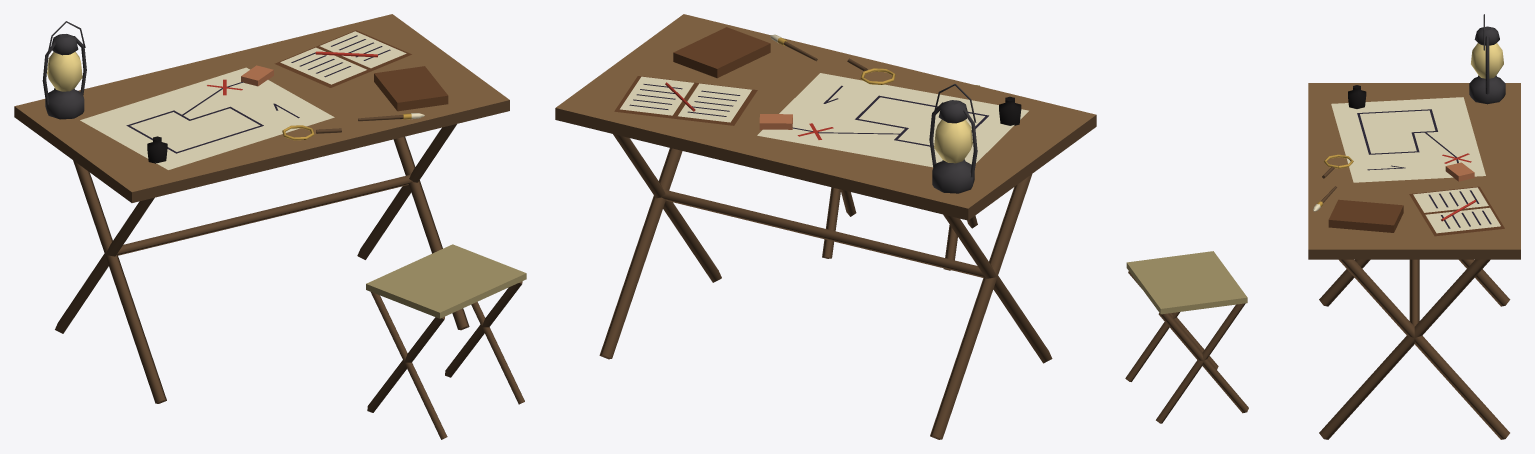
File: camp_table.glb
3 views of the same model, side by side, from view 1: azimuth 30°, elevation 25°; view 2: azimuth 150°, elevation 25°; view 3: azimuth 270°, elevation 25° (orthographic). The views are drawn at different scales.
Visible parts, largest first — view 1: camp_table; view 2: camp_table; view 3: camp_table.
Part boxes in pixels (left/top/right/bottom): camp_table: left=14, top=14, right=526, bottom=439; camp_table: left=555, top=14, right=1096, bottom=439; camp_table: left=1125, top=14, right=1520, bottom=439.
Bounding box in the file's own units: 1.3 × 1.06 × 1.3.
